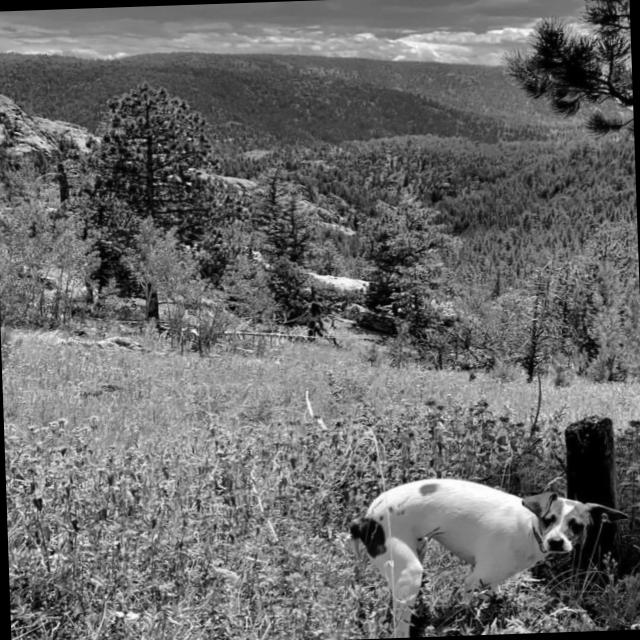squatting: (339, 458, 636, 640)
